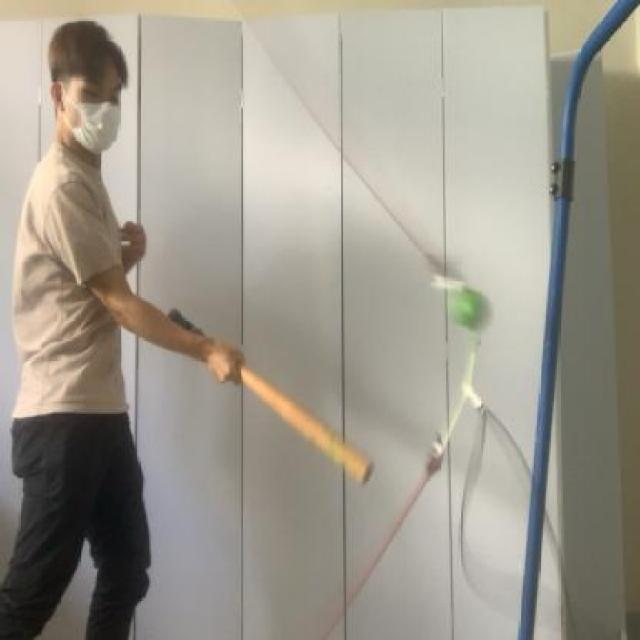baseball: (445, 275, 506, 348)
